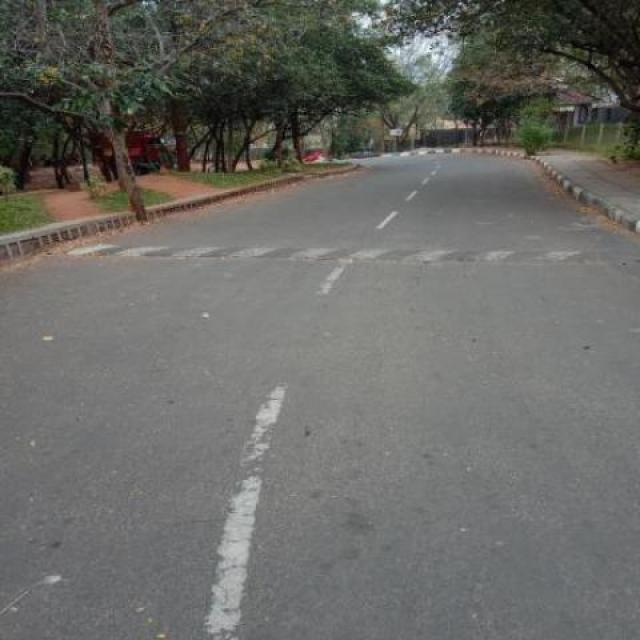Speed Bump: (52, 242, 640, 266)
